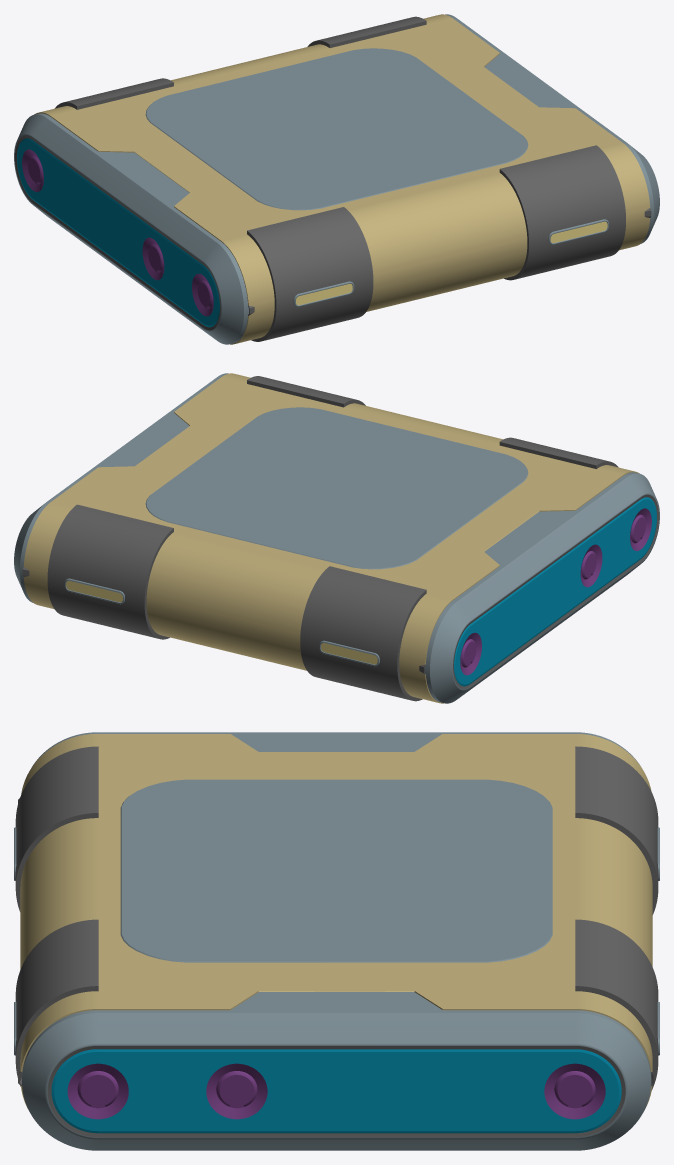
Rendered from env_building_warehouse01_lod0.fbx.
The picture shows the model from 3 angles, top to bottom: view 1: azimuth 30°, elevation 25°; view 2: azimuth 150°, elevation 25°; view 3: azimuth 270°, elevation 25°; orthographic projection. The views are drawn at different scales.
Parts seen in each view (by area): view 1: env_building_warehouse01_lod0; view 2: env_building_warehouse01_lod0; view 3: env_building_warehouse01_lod0.
Part boxes in pixels (<box>): env_building_warehouse01_lod0: <box>14,14,659,344</box>; env_building_warehouse01_lod0: <box>14,373,659,703</box>; env_building_warehouse01_lod0: <box>14,732,659,1150</box>.
Bounding box in the file's own units: 567 × 133 × 516.
